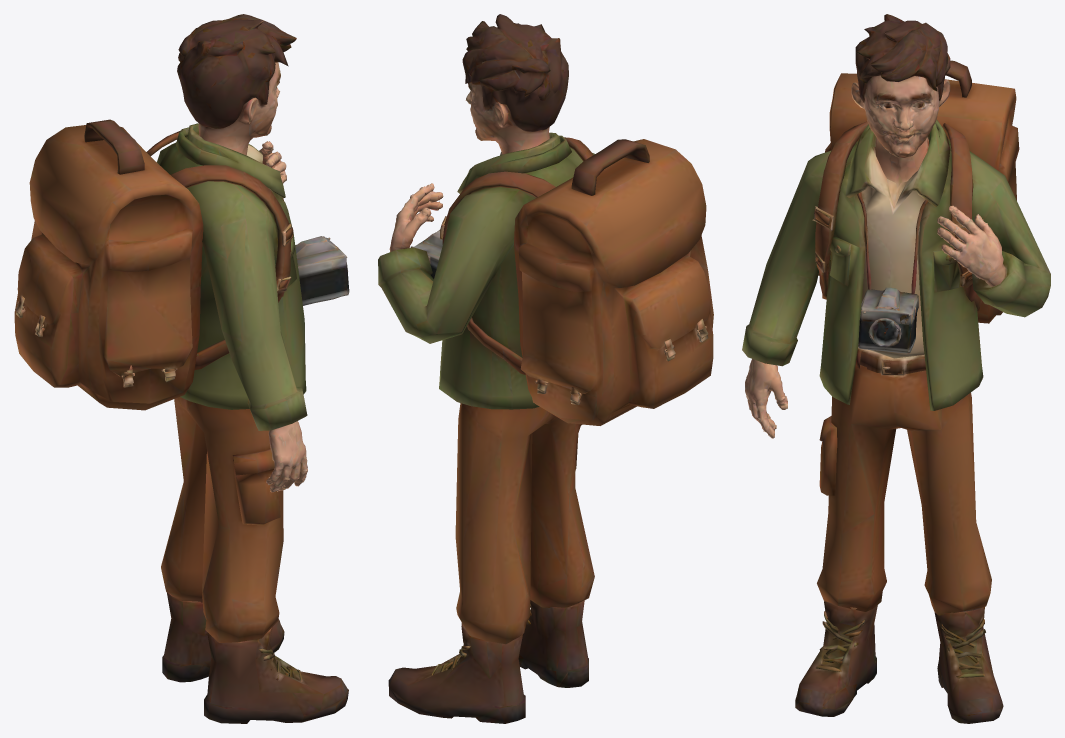
File: hero-character.glb
3 renders of one model, left to right at view 1: azimuth 30°, elevation 25°; view 2: azimuth 150°, elevation 25°; view 3: azimuth 270°, elevation 25°, orthographic.
Parts seen in each view (by area): view 1: tripo_node_eaf43289-2a13-4364-a0d6-96311f175b6b; view 2: tripo_node_eaf43289-2a13-4364-a0d6-96311f175b6b; view 3: tripo_node_eaf43289-2a13-4364-a0d6-96311f175b6b.
Boxes of the visible parts, bbox=[...] form: tripo_node_eaf43289-2a13-4364-a0d6-96311f175b6b: bbox=[14, 14, 349, 723]; tripo_node_eaf43289-2a13-4364-a0d6-96311f175b6b: bbox=[378, 14, 713, 723]; tripo_node_eaf43289-2a13-4364-a0d6-96311f175b6b: bbox=[742, 14, 1050, 723].
Bounding box in the file's own units: 0.4629 × 0.998 × 0.4199.
Materials: 1 (1 with a texture image).
